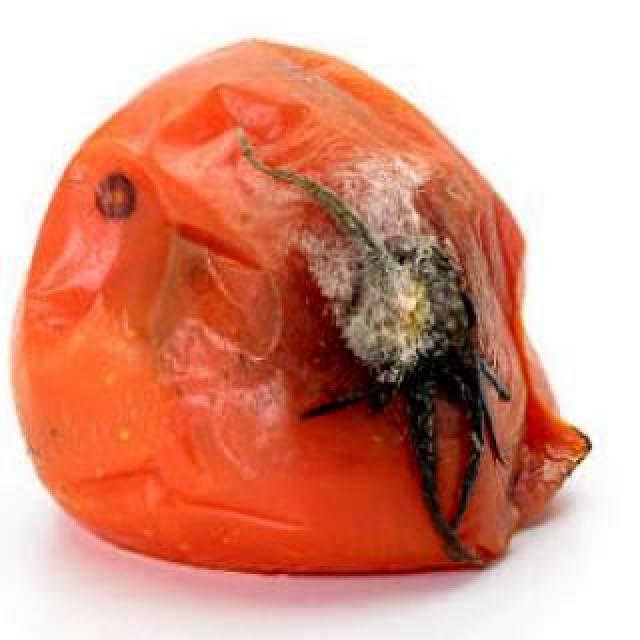Rotten_Tomato: (10, 30, 618, 588)
